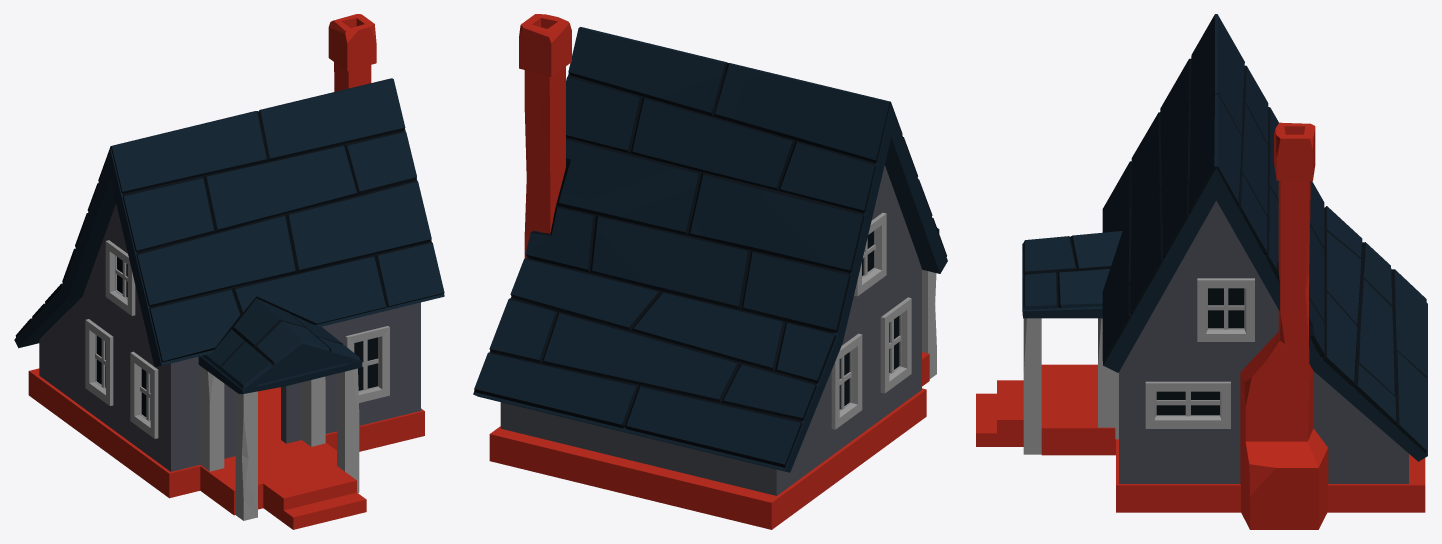
The model's file is House_4.fbx.
The picture shows the model from 3 angles, left to right: view 1: azimuth 30°, elevation 25°; view 2: azimuth 150°, elevation 25°; view 3: azimuth 270°, elevation 25°; orthographic projection. The views are drawn at different scales.
Visible parts, largest first — view 1: House_4; view 2: House_4; view 3: House_4.
Boxes of the visible parts, x1=… form: House_4: x1=14, y1=14, x2=444, y2=529; House_4: x1=473, y1=14, x2=947, y2=529; House_4: x1=976, y1=14, x2=1427, y2=529.
Bounding box in the file's own units: 191 × 210 × 222.
